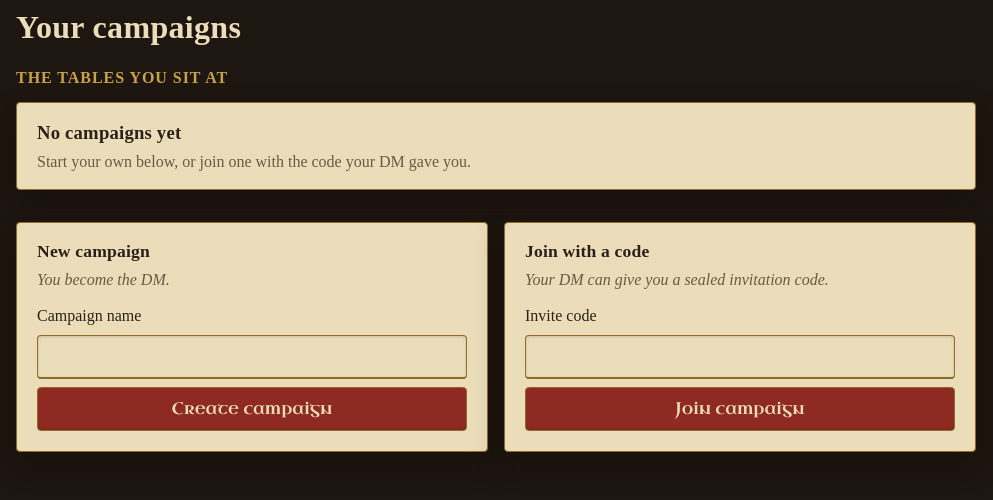
Test case: campaign list › shows a create error in plain words
Type "x" into the field labelled "Campaign name" at (252, 357), box 37,335 -> 467,379
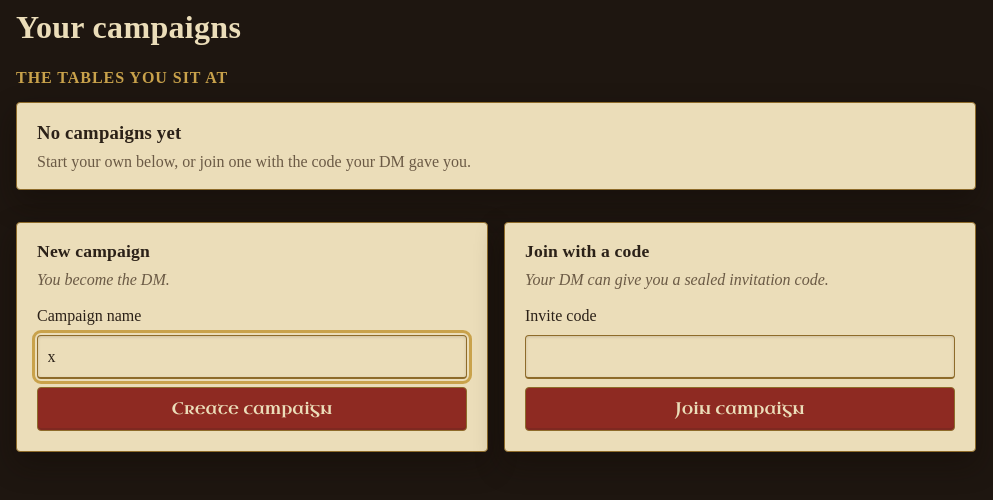
Click the button "Create campaign" at (252, 409), box 37,387 -> 467,431
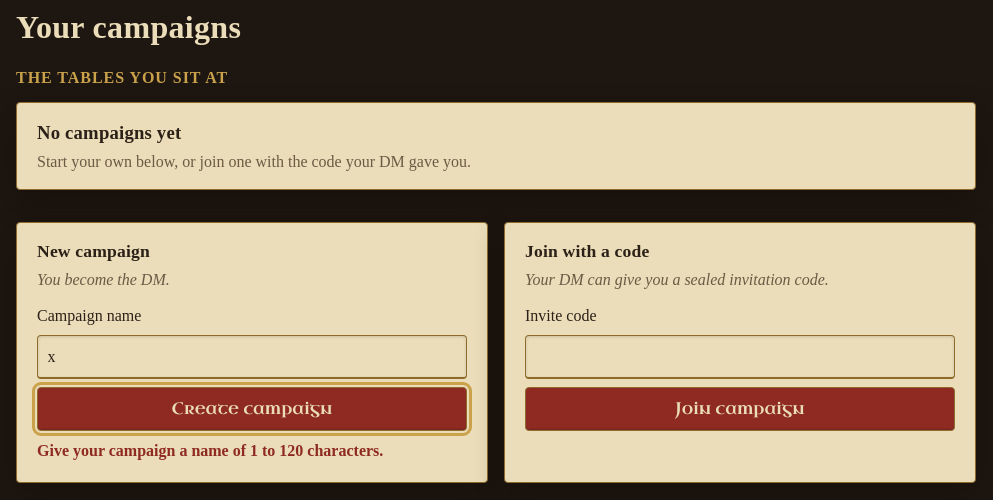
Expected: the message reads "Give your campaign a name of 1 to 120 characters.", 37,442 -> 383,459
